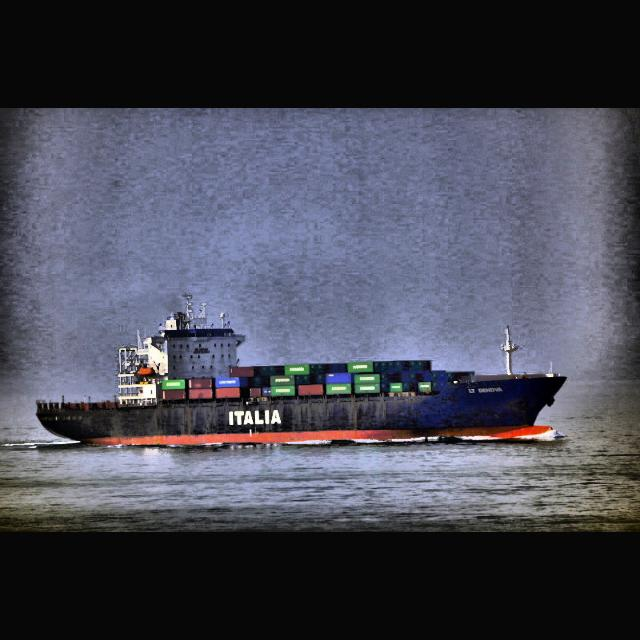container: (35, 294, 569, 450)
